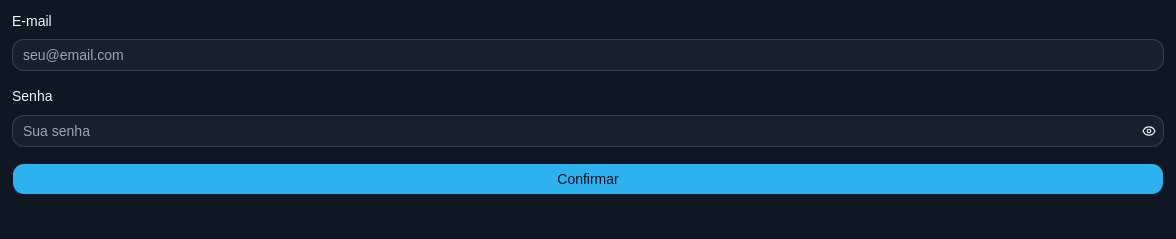
Test: SignInForm › deve exibir erro específico no campo quando o e-mail é inválido
Step 1. Type "e-mail-invalido" into the field labelled "E-mail" → coordinates (588, 55), box 12,39 -> 1164,71
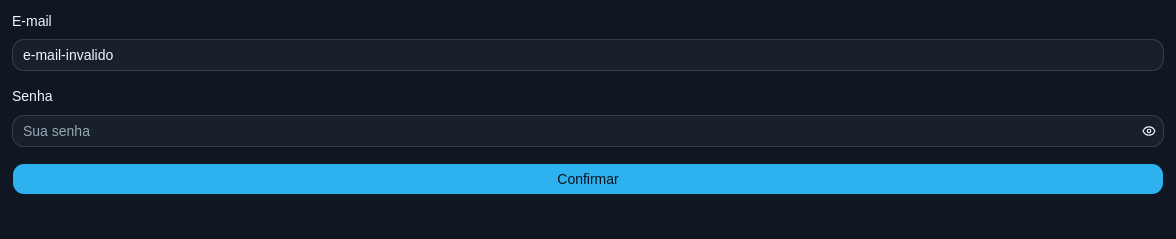
Step 2. Type "senha-123" into the password field labelled "Senha" → coordinates (574, 130), box 13,114 -> 1135,146
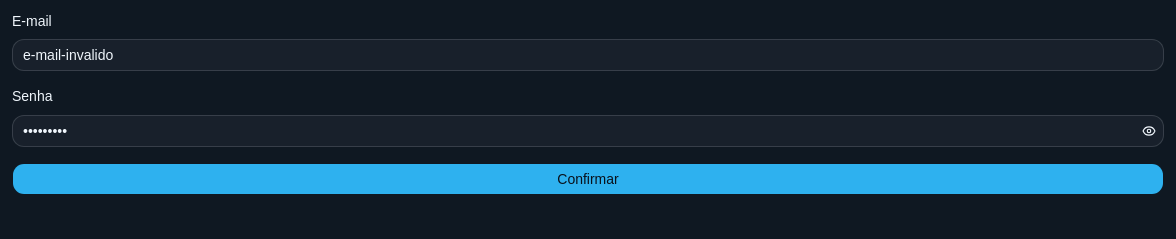
Step 3. Click the button "Confirmar" → coordinates (588, 178), box 12,162 -> 1164,194
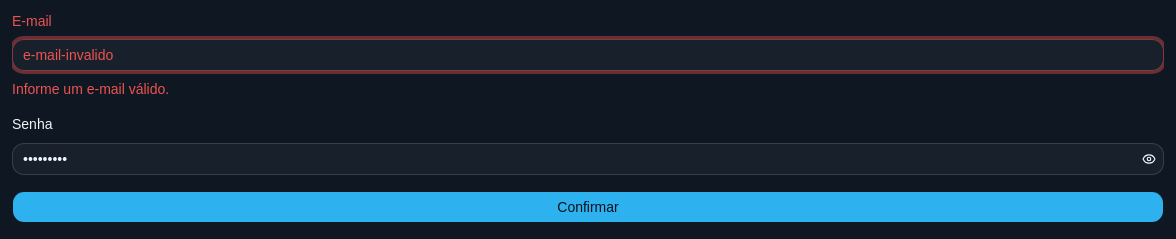
Now the text "Informe um e-mail válido." is shown, box 12,81 -> 169,97
